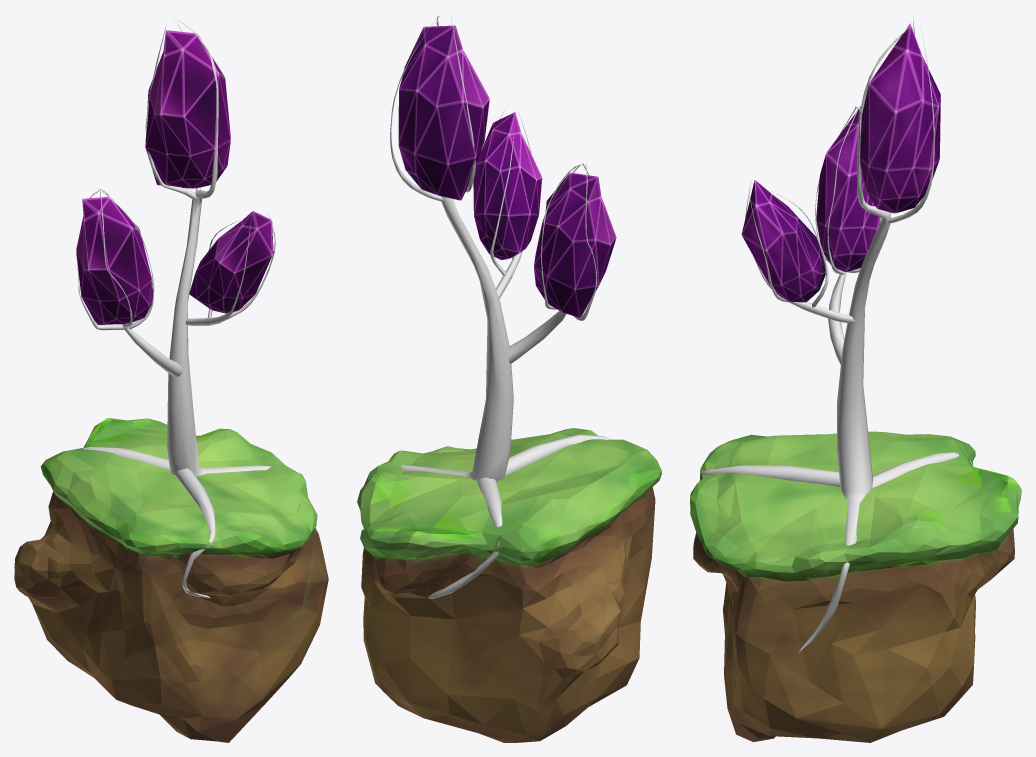
File: floting tree2 .fbx
3 renders of one model, left to right at view 1: azimuth 30°, elevation 25°; view 2: azimuth 150°, elevation 25°; view 3: azimuth 270°, elevation 25°, orthographic. The views are drawn at different scales.
Visible parts, largest first — view 1: Cube.002, Icosphere.027, NurbsPath.021, Icosphere.026, Icosphere.028, NurbsPath.022; view 2: Cube.002, Icosphere.027, NurbsPath.021, Icosphere.026, Icosphere.028, NurbsPath.022; view 3: Cube.002, Icosphere.027, NurbsPath.021, Icosphere.028, Icosphere.026, NurbsPath.022.
Boxes of the visible parts, <box> form: Cube.002: <box>14,418,328,742</box>; Icosphere.027: <box>145,30,230,188</box>; NurbsPath.021: <box>82,18,271,598</box>; Icosphere.026: <box>76,196,152,324</box>; Icosphere.028: <box>189,211,273,313</box>; NurbsPath.022: <box>76,20,275,376</box>; Cube.002: <box>357,428,661,742</box>; Icosphere.027: <box>398,25,489,200</box>; NurbsPath.021: <box>400,16,611,598</box>; Icosphere.026: <box>534,172,616,318</box>; Icosphere.028: <box>473,112,542,260</box>; NurbsPath.022: <box>390,17,597,363</box>; Cube.002: <box>690,431,1021,742</box>; Icosphere.027: <box>860,23,940,213</box>; NurbsPath.021: <box>700,22,971,652</box>; Icosphere.028: <box>741,180,825,302</box>; Icosphere.026: <box>816,106,880,272</box>; NurbsPath.022: <box>745,16,934,364</box>.
Bounding box in the file's own units: 709 × 1874 × 766.
2 materials, 2 textured.
